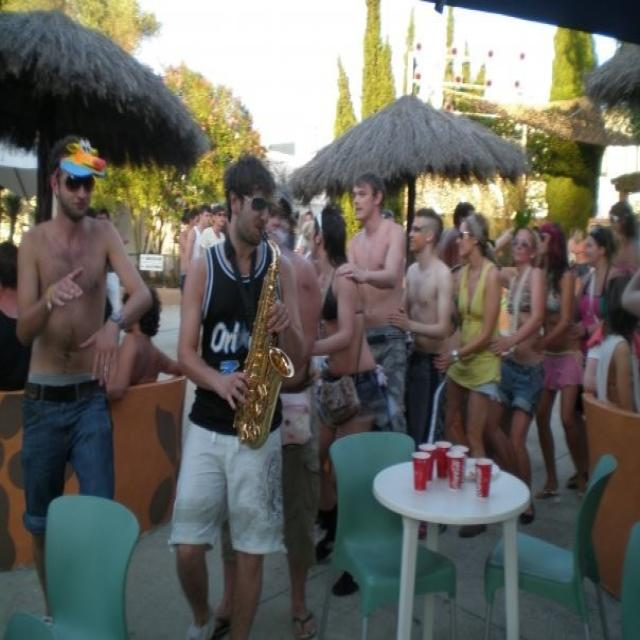saxophone: (226, 228, 298, 454)
